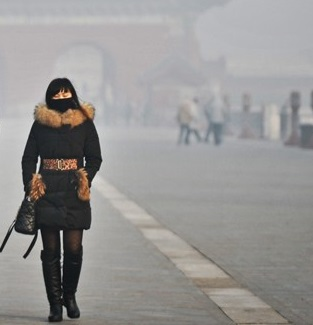person: (15, 74, 106, 324), (202, 92, 229, 145), (176, 98, 192, 147), (186, 99, 203, 145)
